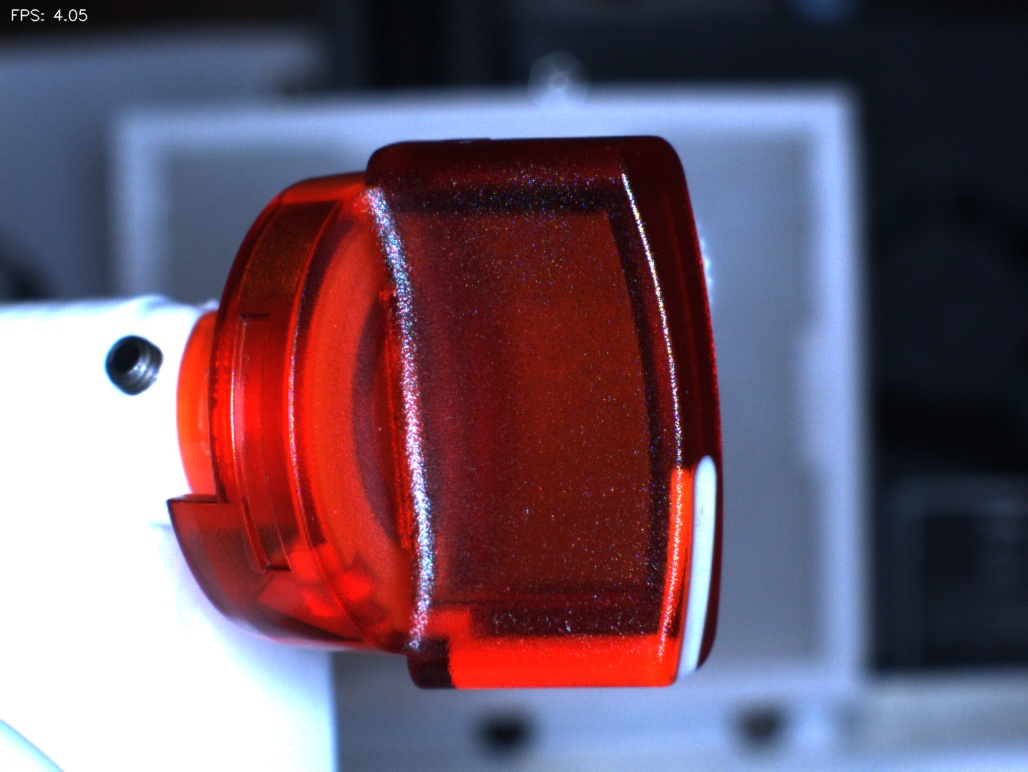PointNoir: (689, 488, 745, 552)
